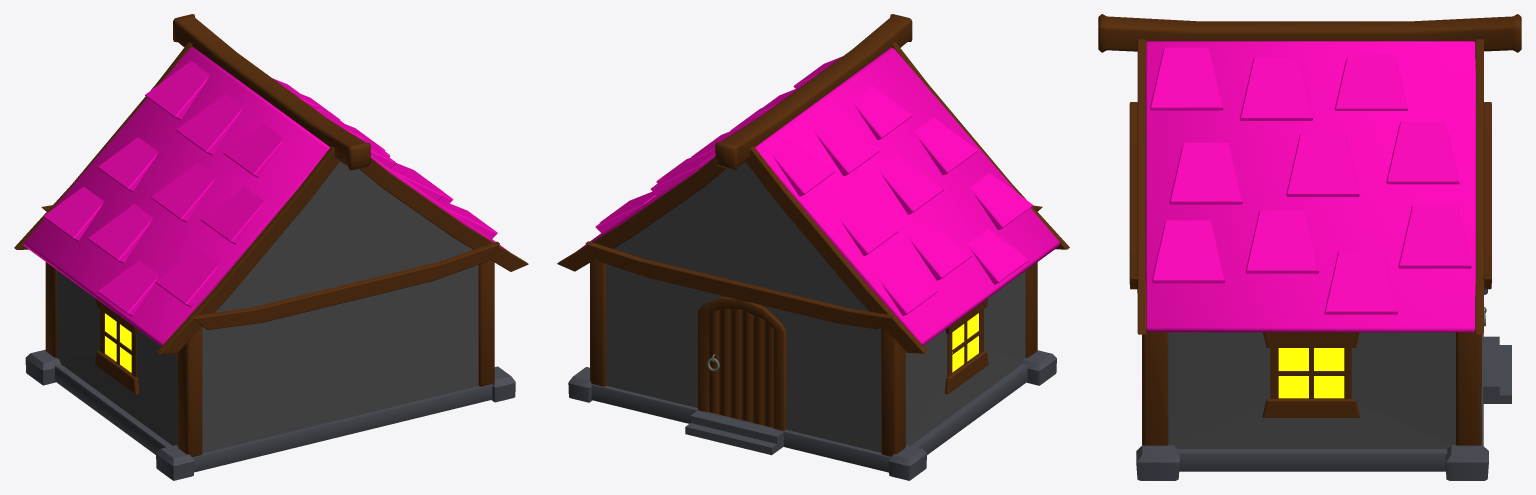
Rendered from CasaQuadrada_Vila.fbx.
The picture shows the model from 3 angles, left to right: view 1: azimuth 30°, elevation 25°; view 2: azimuth 150°, elevation 25°; view 3: azimuth 270°, elevation 25°; orthographic projection. The views are drawn at different scales.
Parts seen in each view (by area): view 1: Paredes_CasaQuadrada, Telhado_CasaQuadrada, Hastes_CasaQuadrada, BaseDePedra_CasaQuadrada, PortaEJanelas_CasaQuadrada, VidroJanelas_CasaQuadrada; view 2: Telhado_CasaQuadrada, Paredes_CasaQuadrada, Hastes_CasaQuadrada, PortaEJanelas_CasaQuadrada, BaseDePedra_CasaQuadrada, VidroJanelas_CasaQuadrada; view 3: Telhado_CasaQuadrada, Paredes_CasaQuadrada, Hastes_CasaQuadrada, BaseDePedra_CasaQuadrada, PortaEJanelas_CasaQuadrada, VidroJanelas_CasaQuadrada.
Part boxes in pixels (bbox=[...]): Paredes_CasaQuadrada: bbox=[57, 162, 478, 453]; Telhado_CasaQuadrada: bbox=[23, 47, 508, 346]; Hastes_CasaQuadrada: bbox=[14, 14, 528, 456]; BaseDePedra_CasaQuadrada: bbox=[25, 349, 515, 480]; PortaEJanelas_CasaQuadrada: bbox=[95, 298, 139, 394]; VidroJanelas_CasaQuadrada: bbox=[105, 313, 131, 372]; Telhado_CasaQuadrada: bbox=[577, 47, 1060, 345]; Paredes_CasaQuadrada: bbox=[606, 161, 1025, 452]; Hastes_CasaQuadrada: bbox=[557, 14, 1069, 456]; PortaEJanelas_CasaQuadrada: bbox=[698, 296, 988, 430]; BaseDePedra_CasaQuadrada: bbox=[568, 350, 1056, 480]; VidroJanelas_CasaQuadrada: bbox=[952, 313, 978, 372]; Telhado_CasaQuadrada: bbox=[1145, 41, 1475, 332]; Paredes_CasaQuadrada: bbox=[1168, 332, 1455, 448]; Hastes_CasaQuadrada: bbox=[1098, 14, 1521, 445]; BaseDePedra_CasaQuadrada: bbox=[1136, 289, 1511, 480]; PortaEJanelas_CasaQuadrada: bbox=[1262, 332, 1481, 417]; VidroJanelas_CasaQuadrada: bbox=[1278, 348, 1344, 398].
Size of the model in its own units: 613 by 486 by 513.
